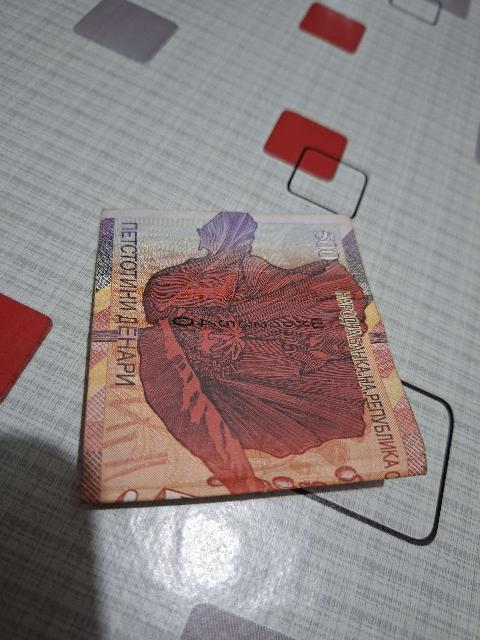note: (83, 210, 425, 502)
